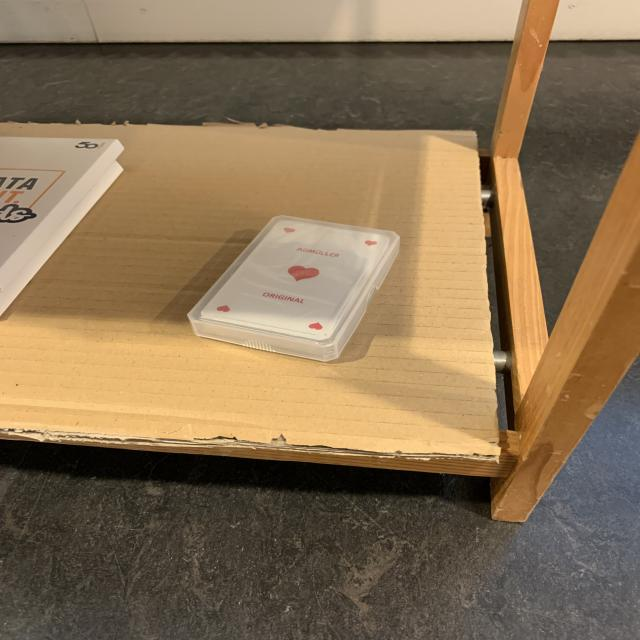Jasskarte: (188, 216, 399, 361)
